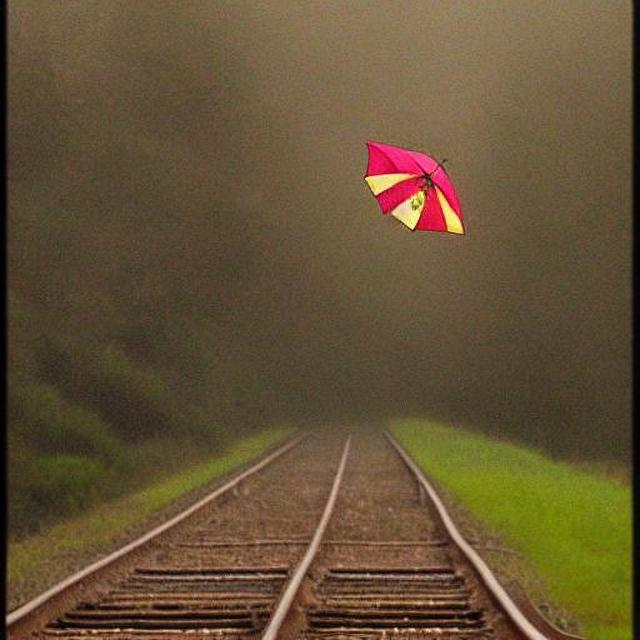floating object: (360, 141, 465, 235)
